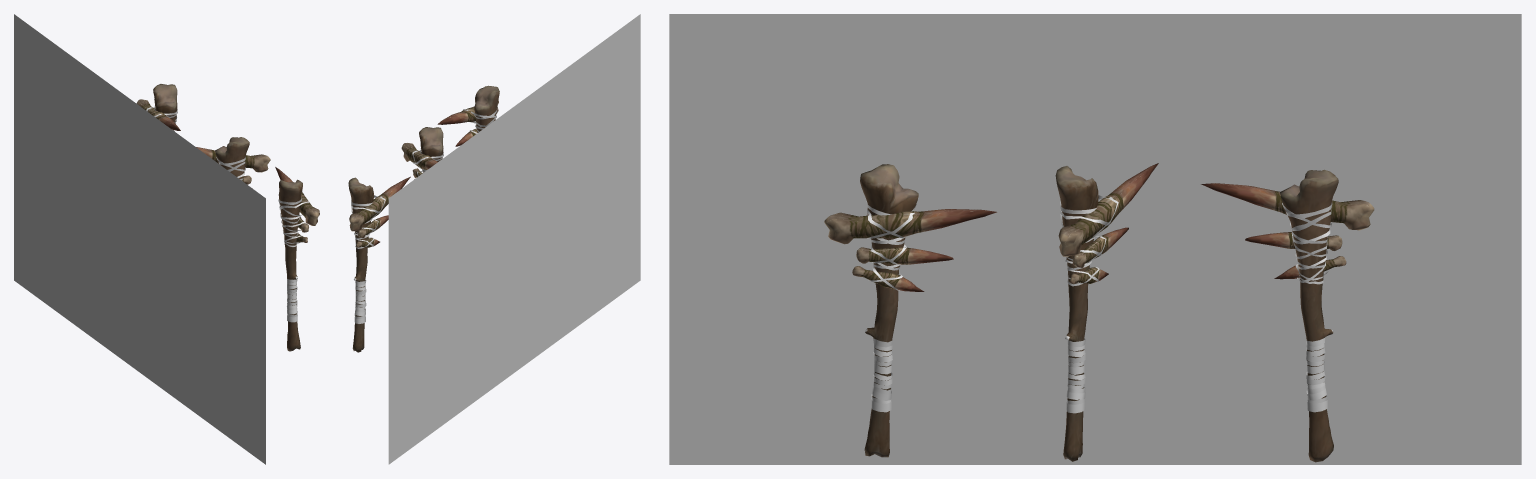
The picture shows the model from 3 angles, left to right: view 1: azimuth 30°, elevation 25°; view 2: azimuth 150°, elevation 25°; view 3: azimuth 270°, elevation 25°; orthographic projection. The views are drawn at different scales.
Visible parts, largest first — view 1: Plane.003, rtrtrtr, rtrtrtr.001, rtrtrtr.002; view 2: Plane.003, rtrtrtr.002, rtrtrtr, rtrtrtr.001; view 3: Plane.003, rtrtrtr, rtrtrtr.002, rtrtrtr.001.
Boxes of the visible parts, bbox=[...] form: Plane.003: bbox=[14, 14, 265, 464]; rtrtrtr: bbox=[275, 167, 319, 351]; rtrtrtr.001: bbox=[196, 137, 270, 188]; rtrtrtr.002: bbox=[136, 84, 180, 131]; Plane.003: bbox=[388, 14, 640, 464]; rtrtrtr.002: bbox=[348, 176, 410, 352]; rtrtrtr: bbox=[437, 85, 499, 146]; rtrtrtr.001: bbox=[401, 127, 443, 179]; Plane.003: bbox=[669, 14, 1521, 464]; rtrtrtr: bbox=[824, 164, 996, 457]; rtrtrtr.002: bbox=[1201, 169, 1374, 462]; rtrtrtr.001: bbox=[1055, 163, 1158, 461].
Bounding box in the file's own units: 418 × 882 × 1512.
